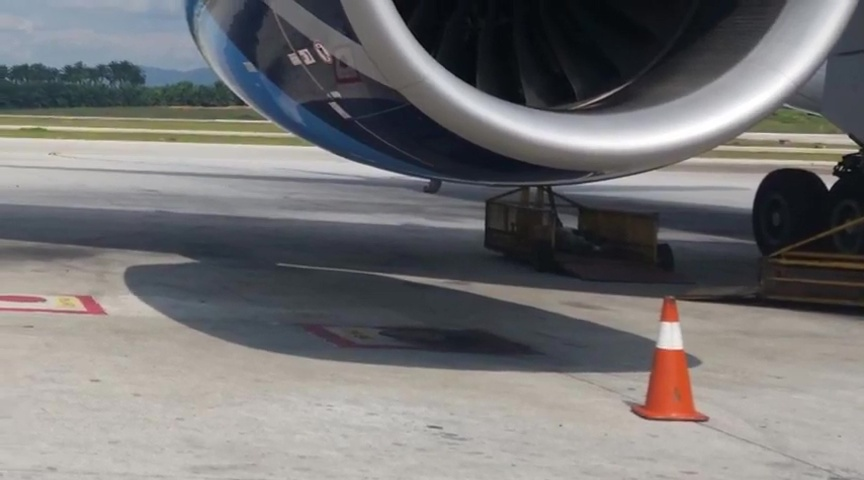safety_cone: (627, 294, 712, 423)
